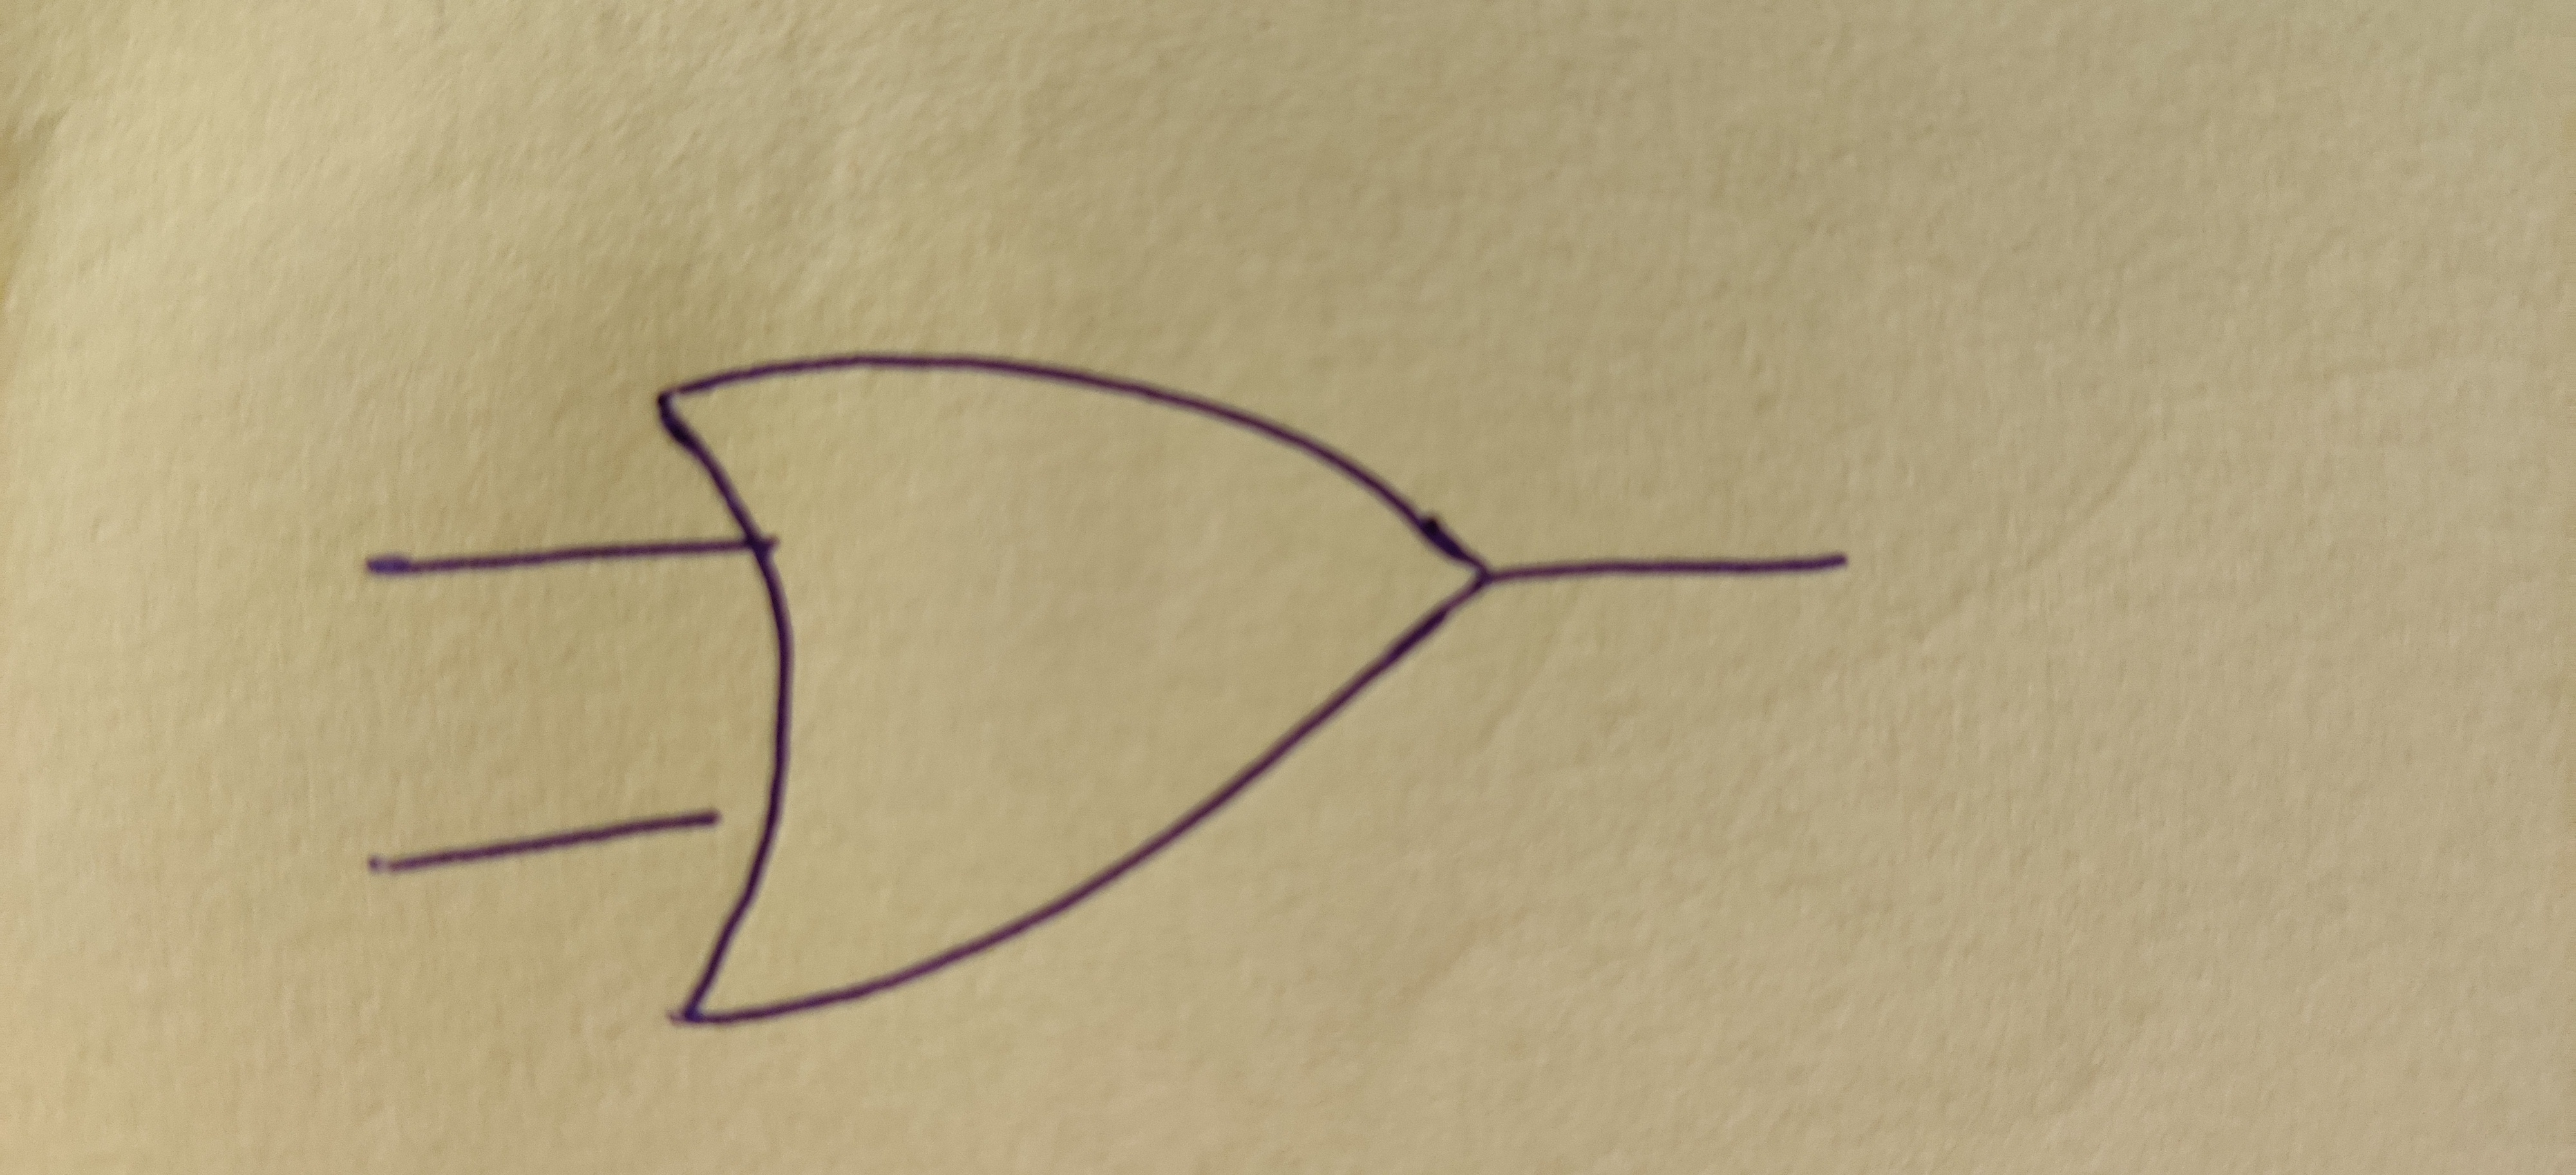or: (662, 350, 1495, 1021)
